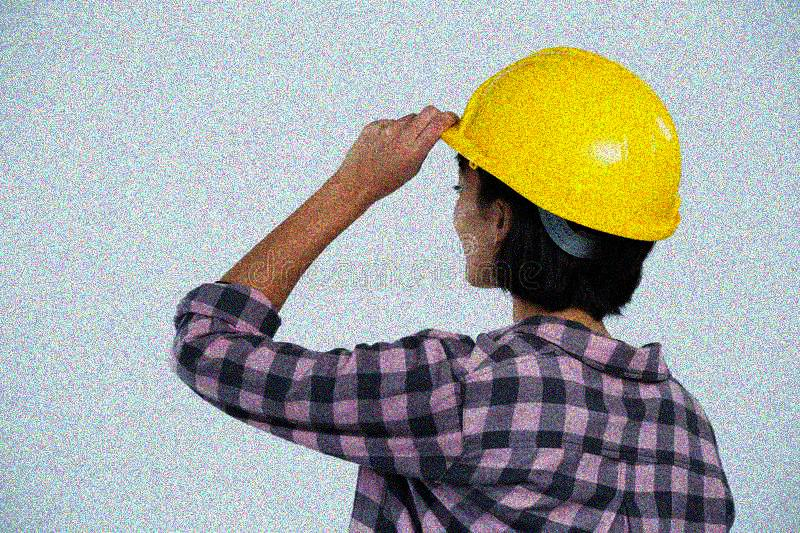helmet: (438, 44, 687, 321)
